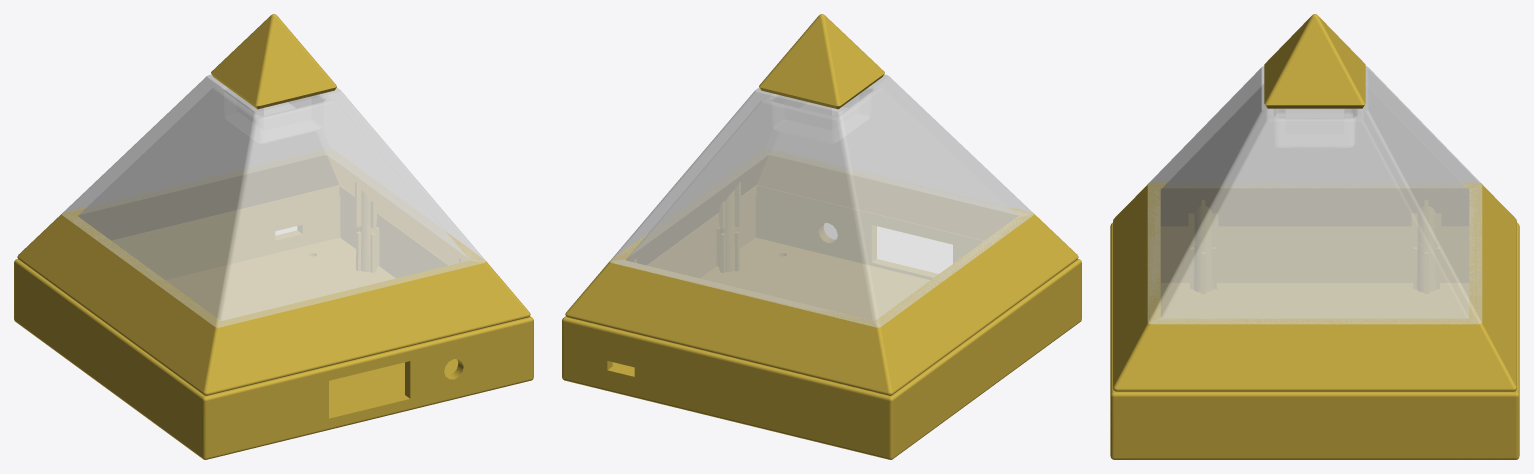
Rendered from Violin-v1.glb.
3 views of the same model, side by side, from view 1: azimuth 30°, elevation 25°; view 2: azimuth 150°, elevation 25°; view 3: azimuth 270°, elevation 25° (orthographic). The views are drawn at different scales.
Parts seen in each view (by area): view 1: Low-frequency magnetic_wire-Up-Cover.004, Low-frequency magnetic_wire-Dw-Cover.002, Low-frequency magnetic_wire-Up-Cover.002, Low-frequency magnetic_wire-Up-Cover-Tip.002; view 2: Low-frequency magnetic_wire-Up-Cover.004, Low-frequency magnetic_wire-Dw-Cover.002, Low-frequency magnetic_wire-Up-Cover.002, Low-frequency magnetic_wire-Up-Cover-Tip.002; view 3: Low-frequency magnetic_wire-Up-Cover.004, Low-frequency magnetic_wire-Up-Cover.002, Low-frequency magnetic_wire-Dw-Cover.002, Low-frequency magnetic_wire-Up-Cover-Tip.002.
Boxes of the visible parts, x1,y1,x2,y2 form: Low-frequency magnetic_wire-Up-Cover.004: [62, 74, 485, 327]; Low-frequency magnetic_wire-Dw-Cover.002: [14, 195, 533, 459]; Low-frequency magnetic_wire-Up-Cover.002: [17, 155, 530, 395]; Low-frequency magnetic_wire-Up-Cover-Tip.002: [211, 14, 336, 109]; Low-frequency magnetic_wire-Up-Cover.004: [610, 74, 1033, 327]; Low-frequency magnetic_wire-Dw-Cover.002: [562, 195, 1081, 459]; Low-frequency magnetic_wire-Up-Cover.002: [565, 155, 1078, 395]; Low-frequency magnetic_wire-Up-Cover-Tip.002: [759, 14, 884, 109]; Low-frequency magnetic_wire-Up-Cover.004: [1147, 66, 1482, 324]; Low-frequency magnetic_wire-Up-Cover.002: [1113, 182, 1516, 391]; Low-frequency magnetic_wire-Dw-Cover.002: [1110, 222, 1519, 459]; Low-frequency magnetic_wire-Up-Cover-Tip.002: [1264, 14, 1365, 108].
Bounding box in the file's own units: 0.11 × 0.107 × 0.11.
